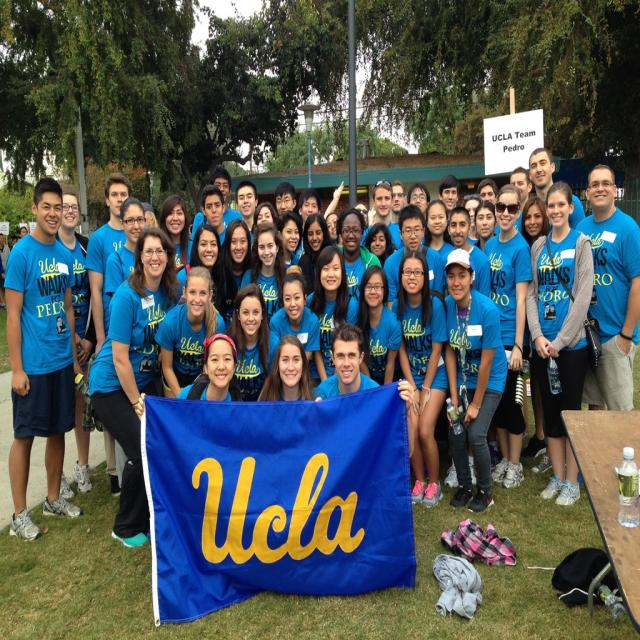body: (86, 224, 196, 554), (1, 173, 88, 544), (522, 177, 604, 510), (441, 246, 510, 516), (385, 246, 451, 512), (572, 162, 640, 410), (86, 173, 137, 498), (481, 180, 533, 492), (308, 321, 416, 462), (51, 189, 98, 503), (101, 196, 148, 489), (152, 265, 228, 400), (134, 331, 246, 422), (517, 195, 554, 464), (304, 244, 360, 388), (381, 203, 447, 314), (221, 282, 280, 403), (518, 146, 588, 238), (356, 264, 404, 388), (336, 207, 384, 328), (268, 264, 322, 362), (239, 221, 289, 325), (441, 203, 492, 299), (255, 332, 323, 403), (171, 222, 225, 306), (214, 218, 254, 329), (420, 198, 458, 298), (360, 178, 406, 252), (0, 219, 34, 312), (297, 212, 334, 294), (322, 178, 370, 241), (158, 193, 194, 274), (204, 165, 244, 232), (294, 186, 324, 262), (200, 182, 230, 246), (508, 165, 534, 235), (277, 210, 304, 272), (234, 179, 259, 244), (470, 199, 500, 253), (386, 179, 408, 250), (476, 176, 502, 236), (363, 221, 394, 269), (460, 194, 486, 248), (438, 173, 460, 227), (406, 181, 431, 221), (274, 179, 298, 219), (139, 198, 159, 231), (253, 201, 278, 226)
